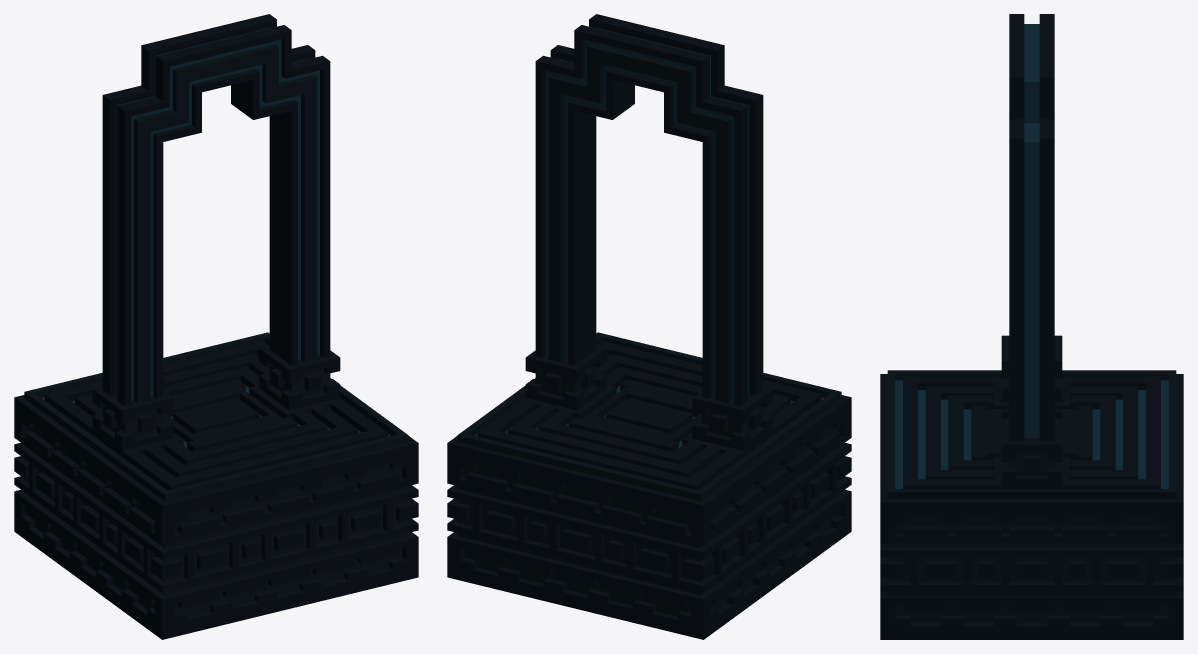
File: Block_Portal.obj
3 renders of one model, left to right at view 1: azimuth 30°, elevation 25°; view 2: azimuth 150°, elevation 25°; view 3: azimuth 270°, elevation 25°, orthographic. The views are drawn at different scales.
Bounding box in the file's own units: 1 × 1.92 × 1.
